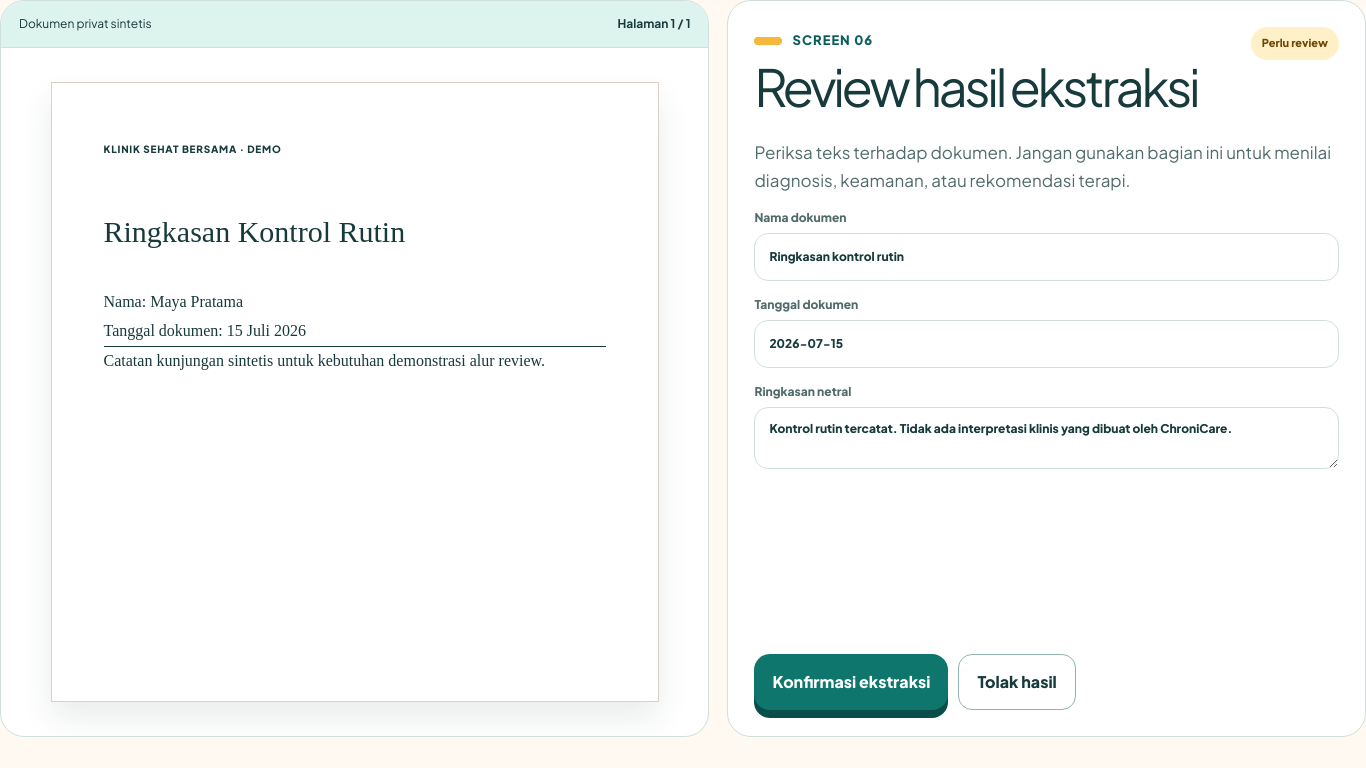
Test: connected Caregiver flow › keeps OCR in review until caregiver confirms
The width and height of the screenshot is (1366, 768).
Check: the text "Perlu review" is shown, box [1251,27,1339,60]
Replace the text in the field labelled "Nama dokumen" with "Ringkasan kontrol sintetis" at [1047, 257], box [754,233,1339,281]
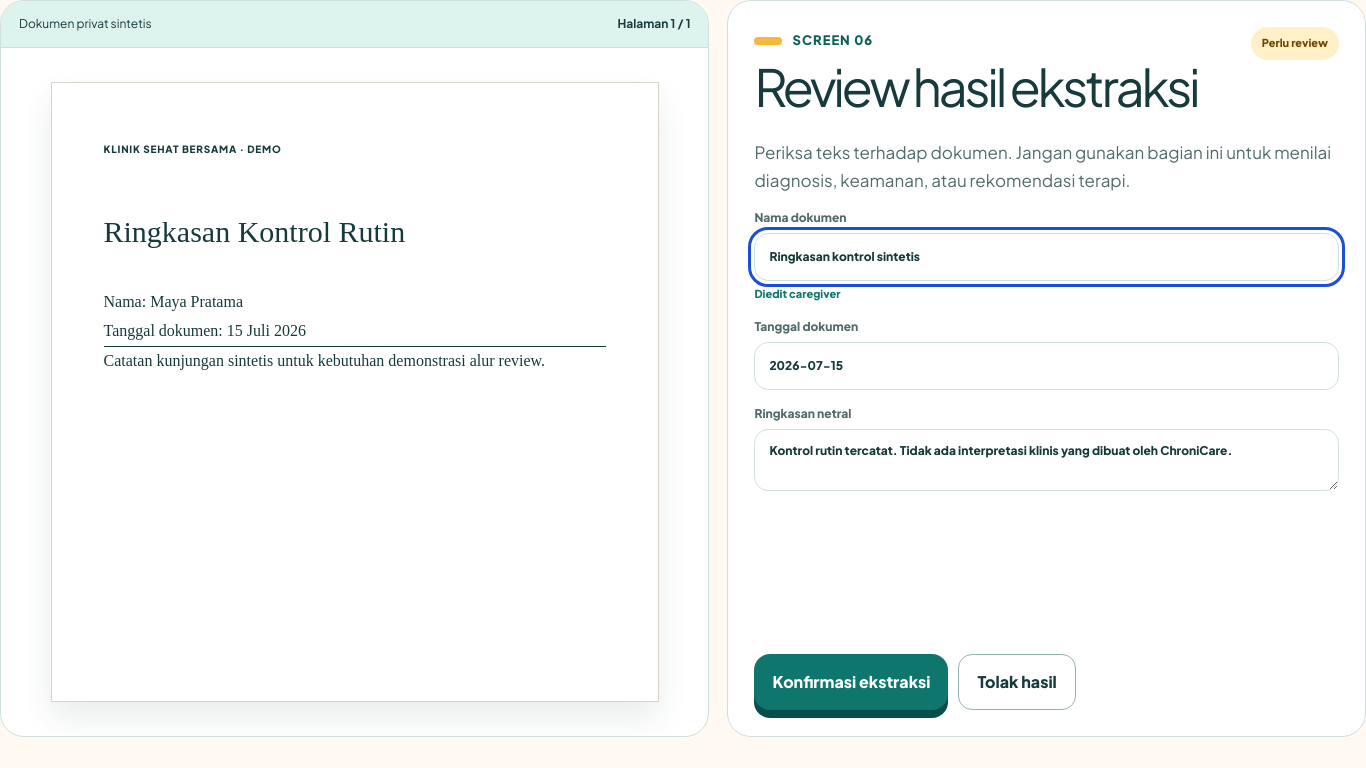
Check: the text "Diedit caregiver" is shown, box [754,286,840,303]
Click the button "Konfirmasi ekstraksi" at [851, 682], box [754,654,948,710]
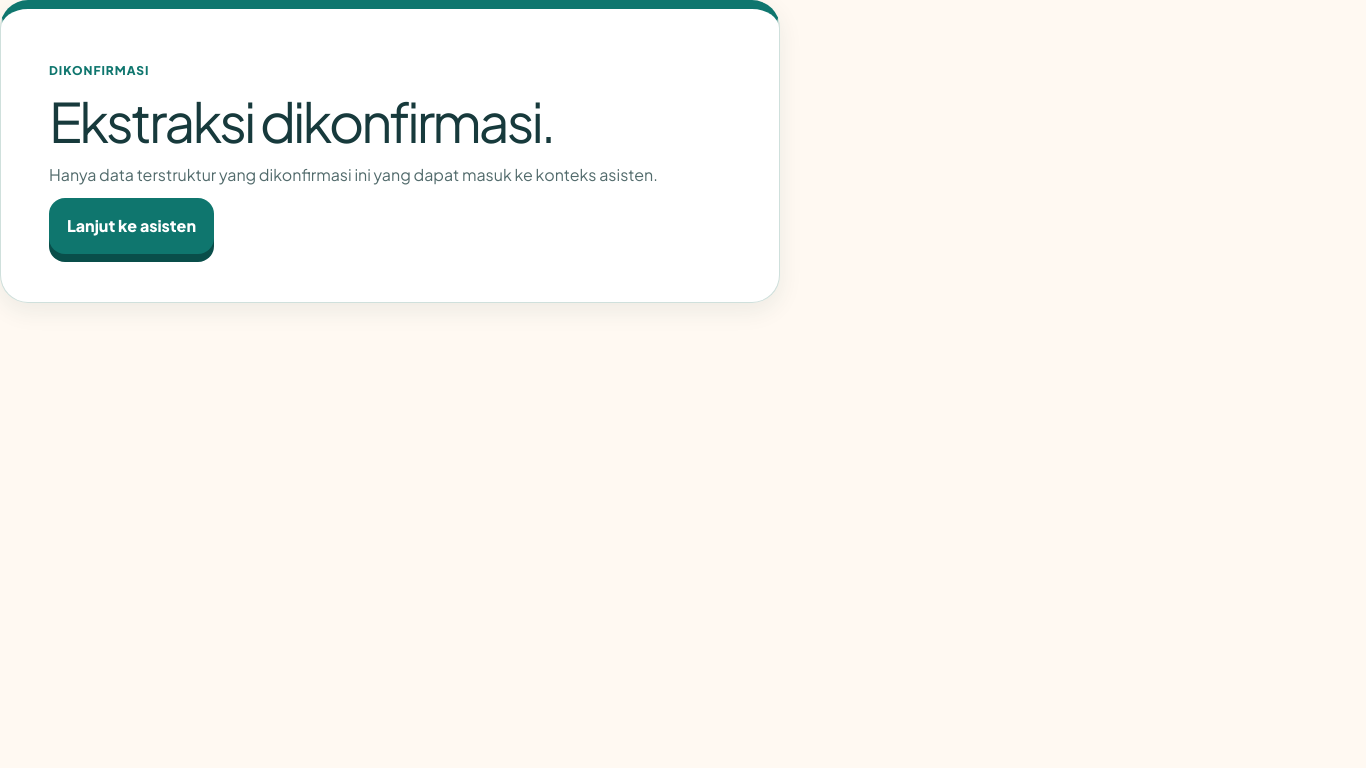
Check: the message shows "Ekstraksi dikonfirmasi", box [49,87,553,155]
